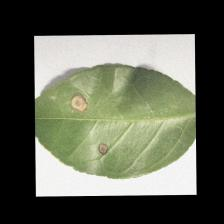canker: (63, 94, 129, 168)
